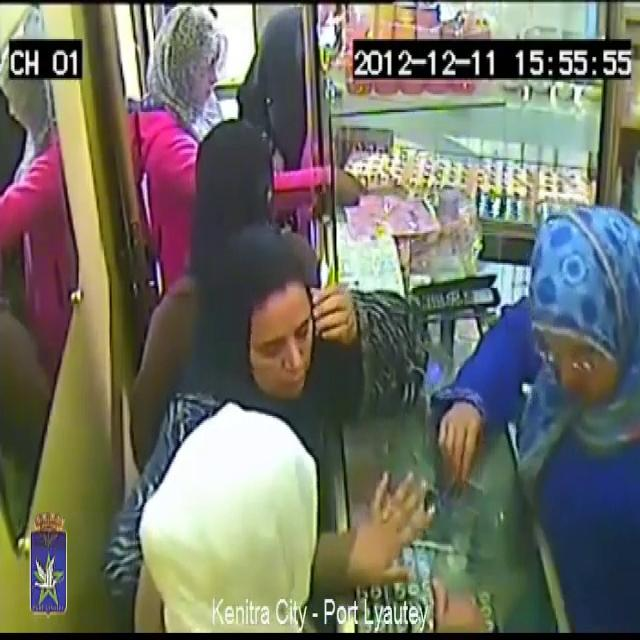Product: (369, 483, 395, 540)
normal: (464, 151, 640, 640), (138, 0, 355, 266), (226, 190, 350, 396), (184, 87, 279, 278)
shoplifting: (116, 410, 445, 640)
